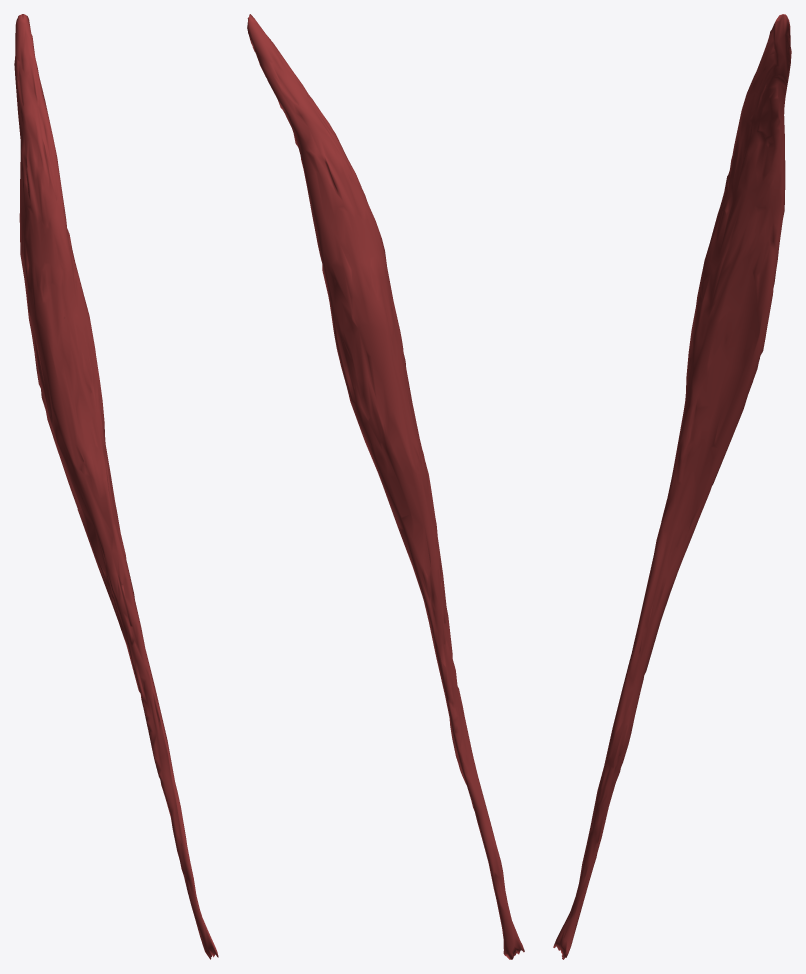
The model's file is extensor-carpi-radialis-longus-r.glb.
3 views of the same model, side by side, from view 1: azimuth 90°, elevation 25°; view 2: azimuth 150°, elevation 25°; view 3: azimuth 270°, elevation 25° (orthographic). The views are drawn at different scales.
Visible parts, largest first — view 1: Extensor carpi radialis longus.r; view 2: Extensor carpi radialis longus.r; view 3: Extensor carpi radialis longus.r.
Boxes of the visible parts, x1,y1,x2,y2 form: Extensor carpi radialis longus.r: (14,14,218,959); Extensor carpi radialis longus.r: (247,14,524,959); Extensor carpi radialis longus.r: (553,14,791,959).
Size of the model in its own units: 0.0597 by 0.3331 by 0.0702.
